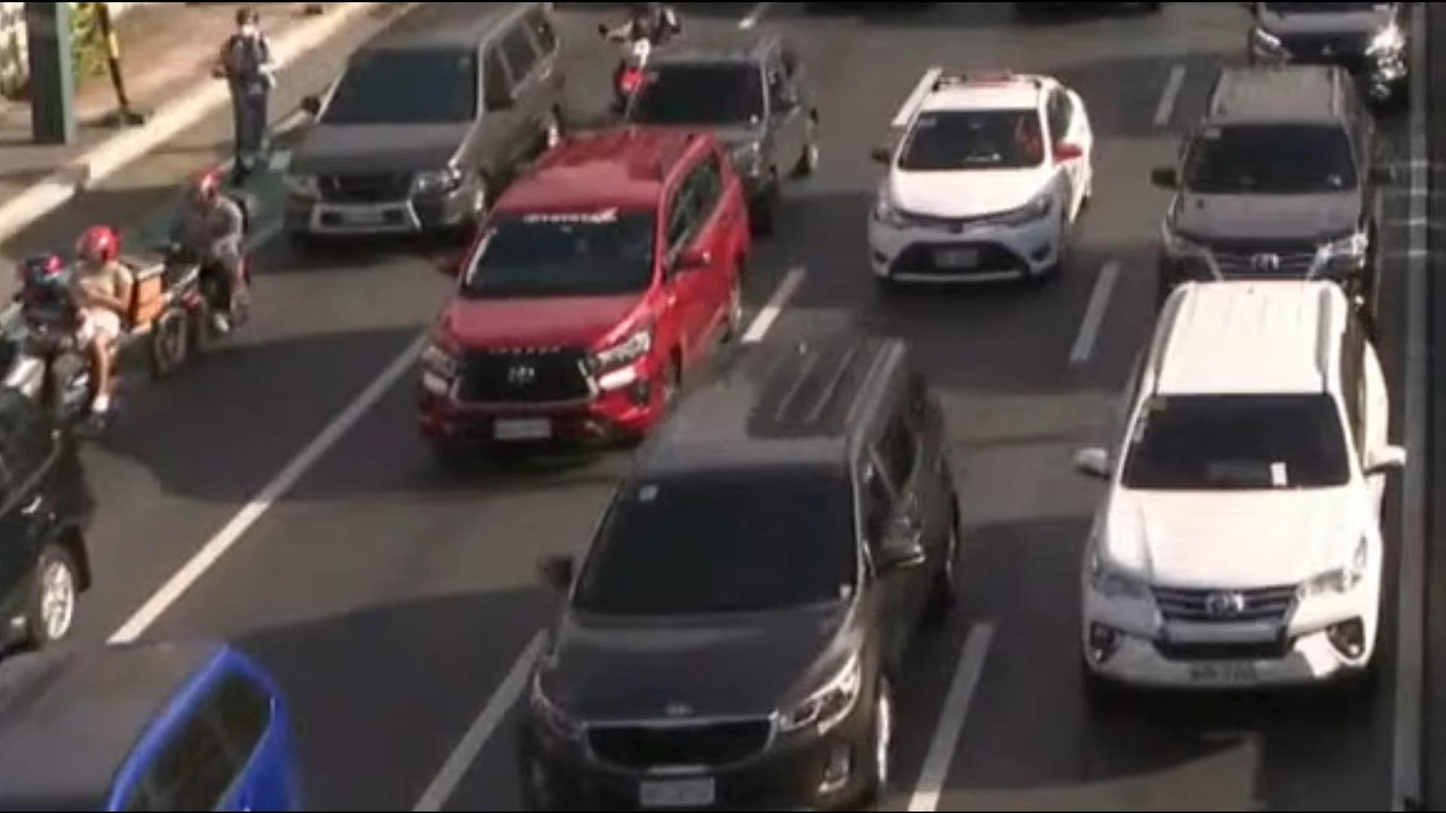Motorcycle: (0, 217, 155, 452), (141, 166, 275, 357), (590, 0, 680, 130)
SUV: (503, 309, 996, 813), (1040, 285, 1441, 706), (391, 128, 770, 477), (1120, 44, 1414, 354), (275, 0, 590, 279), (611, 6, 863, 208)
Sedan: (832, 30, 1132, 300)
